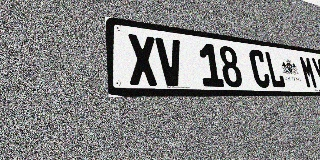1: (197, 42, 224, 87)
8: (218, 45, 244, 87)
C: (248, 49, 271, 88)
L: (264, 51, 286, 88)
M: (298, 55, 318, 89)
V: (155, 37, 185, 86)
X: (127, 33, 159, 86)
Y: (310, 57, 320, 89)
